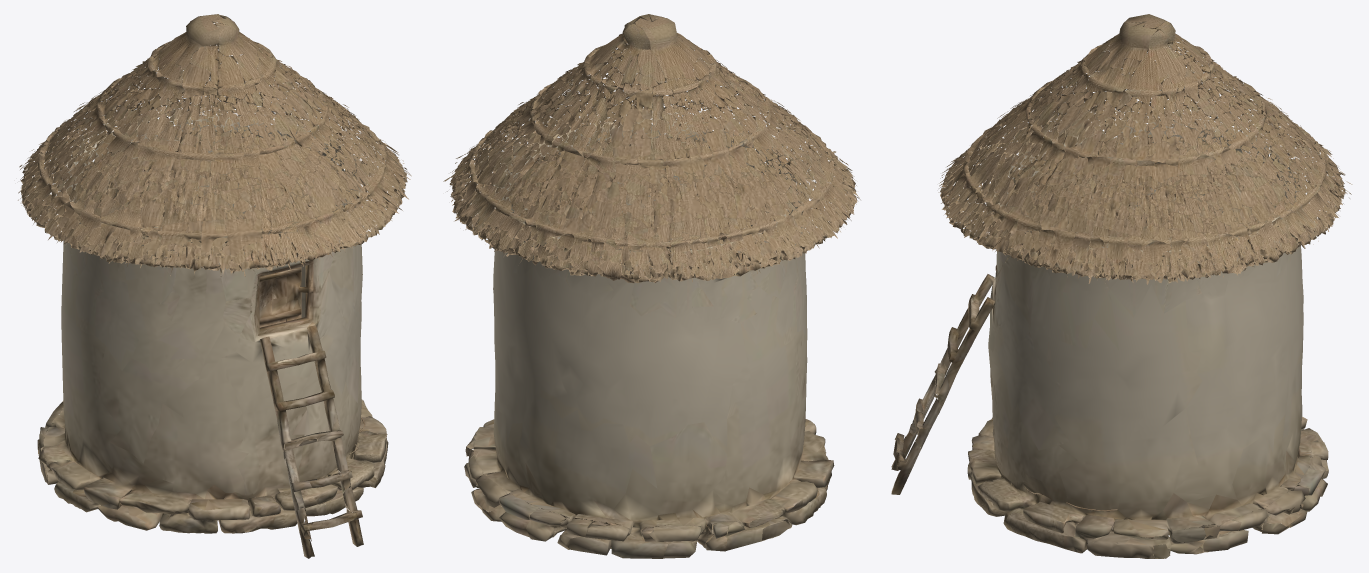
Rendered from granary.glb.
The picture shows the model from 3 angles, left to right: view 1: azimuth 30°, elevation 25°; view 2: azimuth 150°, elevation 25°; view 3: azimuth 270°, elevation 25°; orthographic projection. The views are drawn at different scales.
Parts seen in each view (by area): view 1: Mesh_0; view 2: Mesh_0; view 3: Mesh_0.
Part boxes in pixels (x1,y1,x2,y2): Mesh_0: (18,14,411,558); Mesh_0: (443,14,860,558); Mesh_0: (891,14,1352,558).
Size of the model in its own units: 3.04 by 3.7 by 3.37.
1 material, 1 textured.
